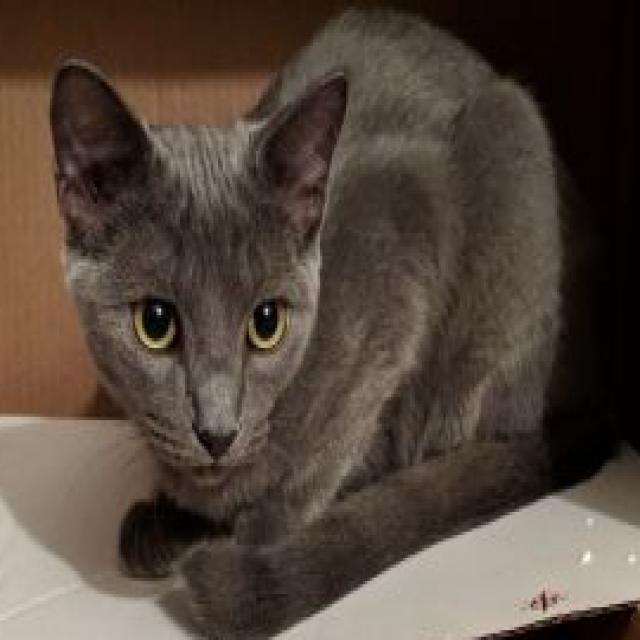Russian Blue: (45, 0, 626, 640)
